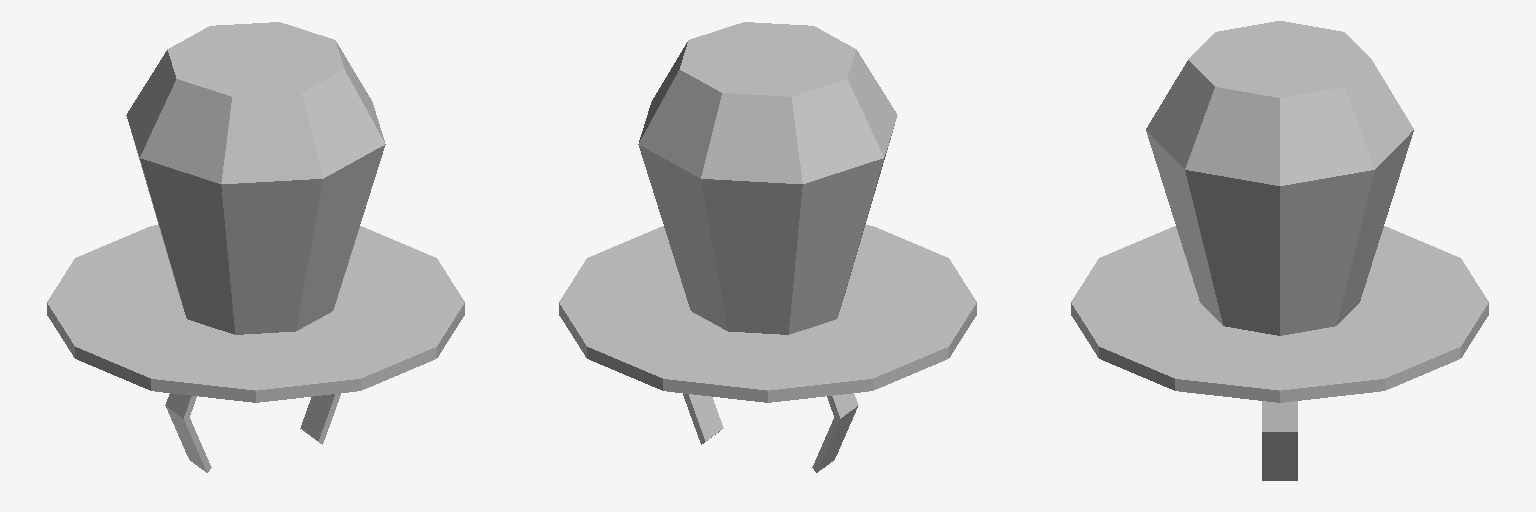
The model's file is ring pop.obj.
3 views of the same model, side by side, from view 1: azimuth 30°, elevation 25°; view 2: azimuth 150°, elevation 25°; view 3: azimuth 270°, elevation 25° (orthographic).
Size of the model in its own units: 3.11 by 3.23 by 3.11.